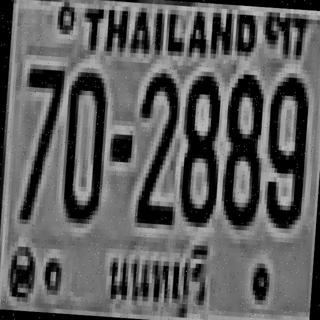N00: (60, 67, 108, 220)
N02: (133, 70, 181, 222)
N07: (17, 64, 62, 221), (21, 64, 62, 171)
N08: (218, 68, 264, 226), (177, 70, 222, 223)
N09: (260, 72, 308, 225)
P37: (99, 232, 215, 320)
